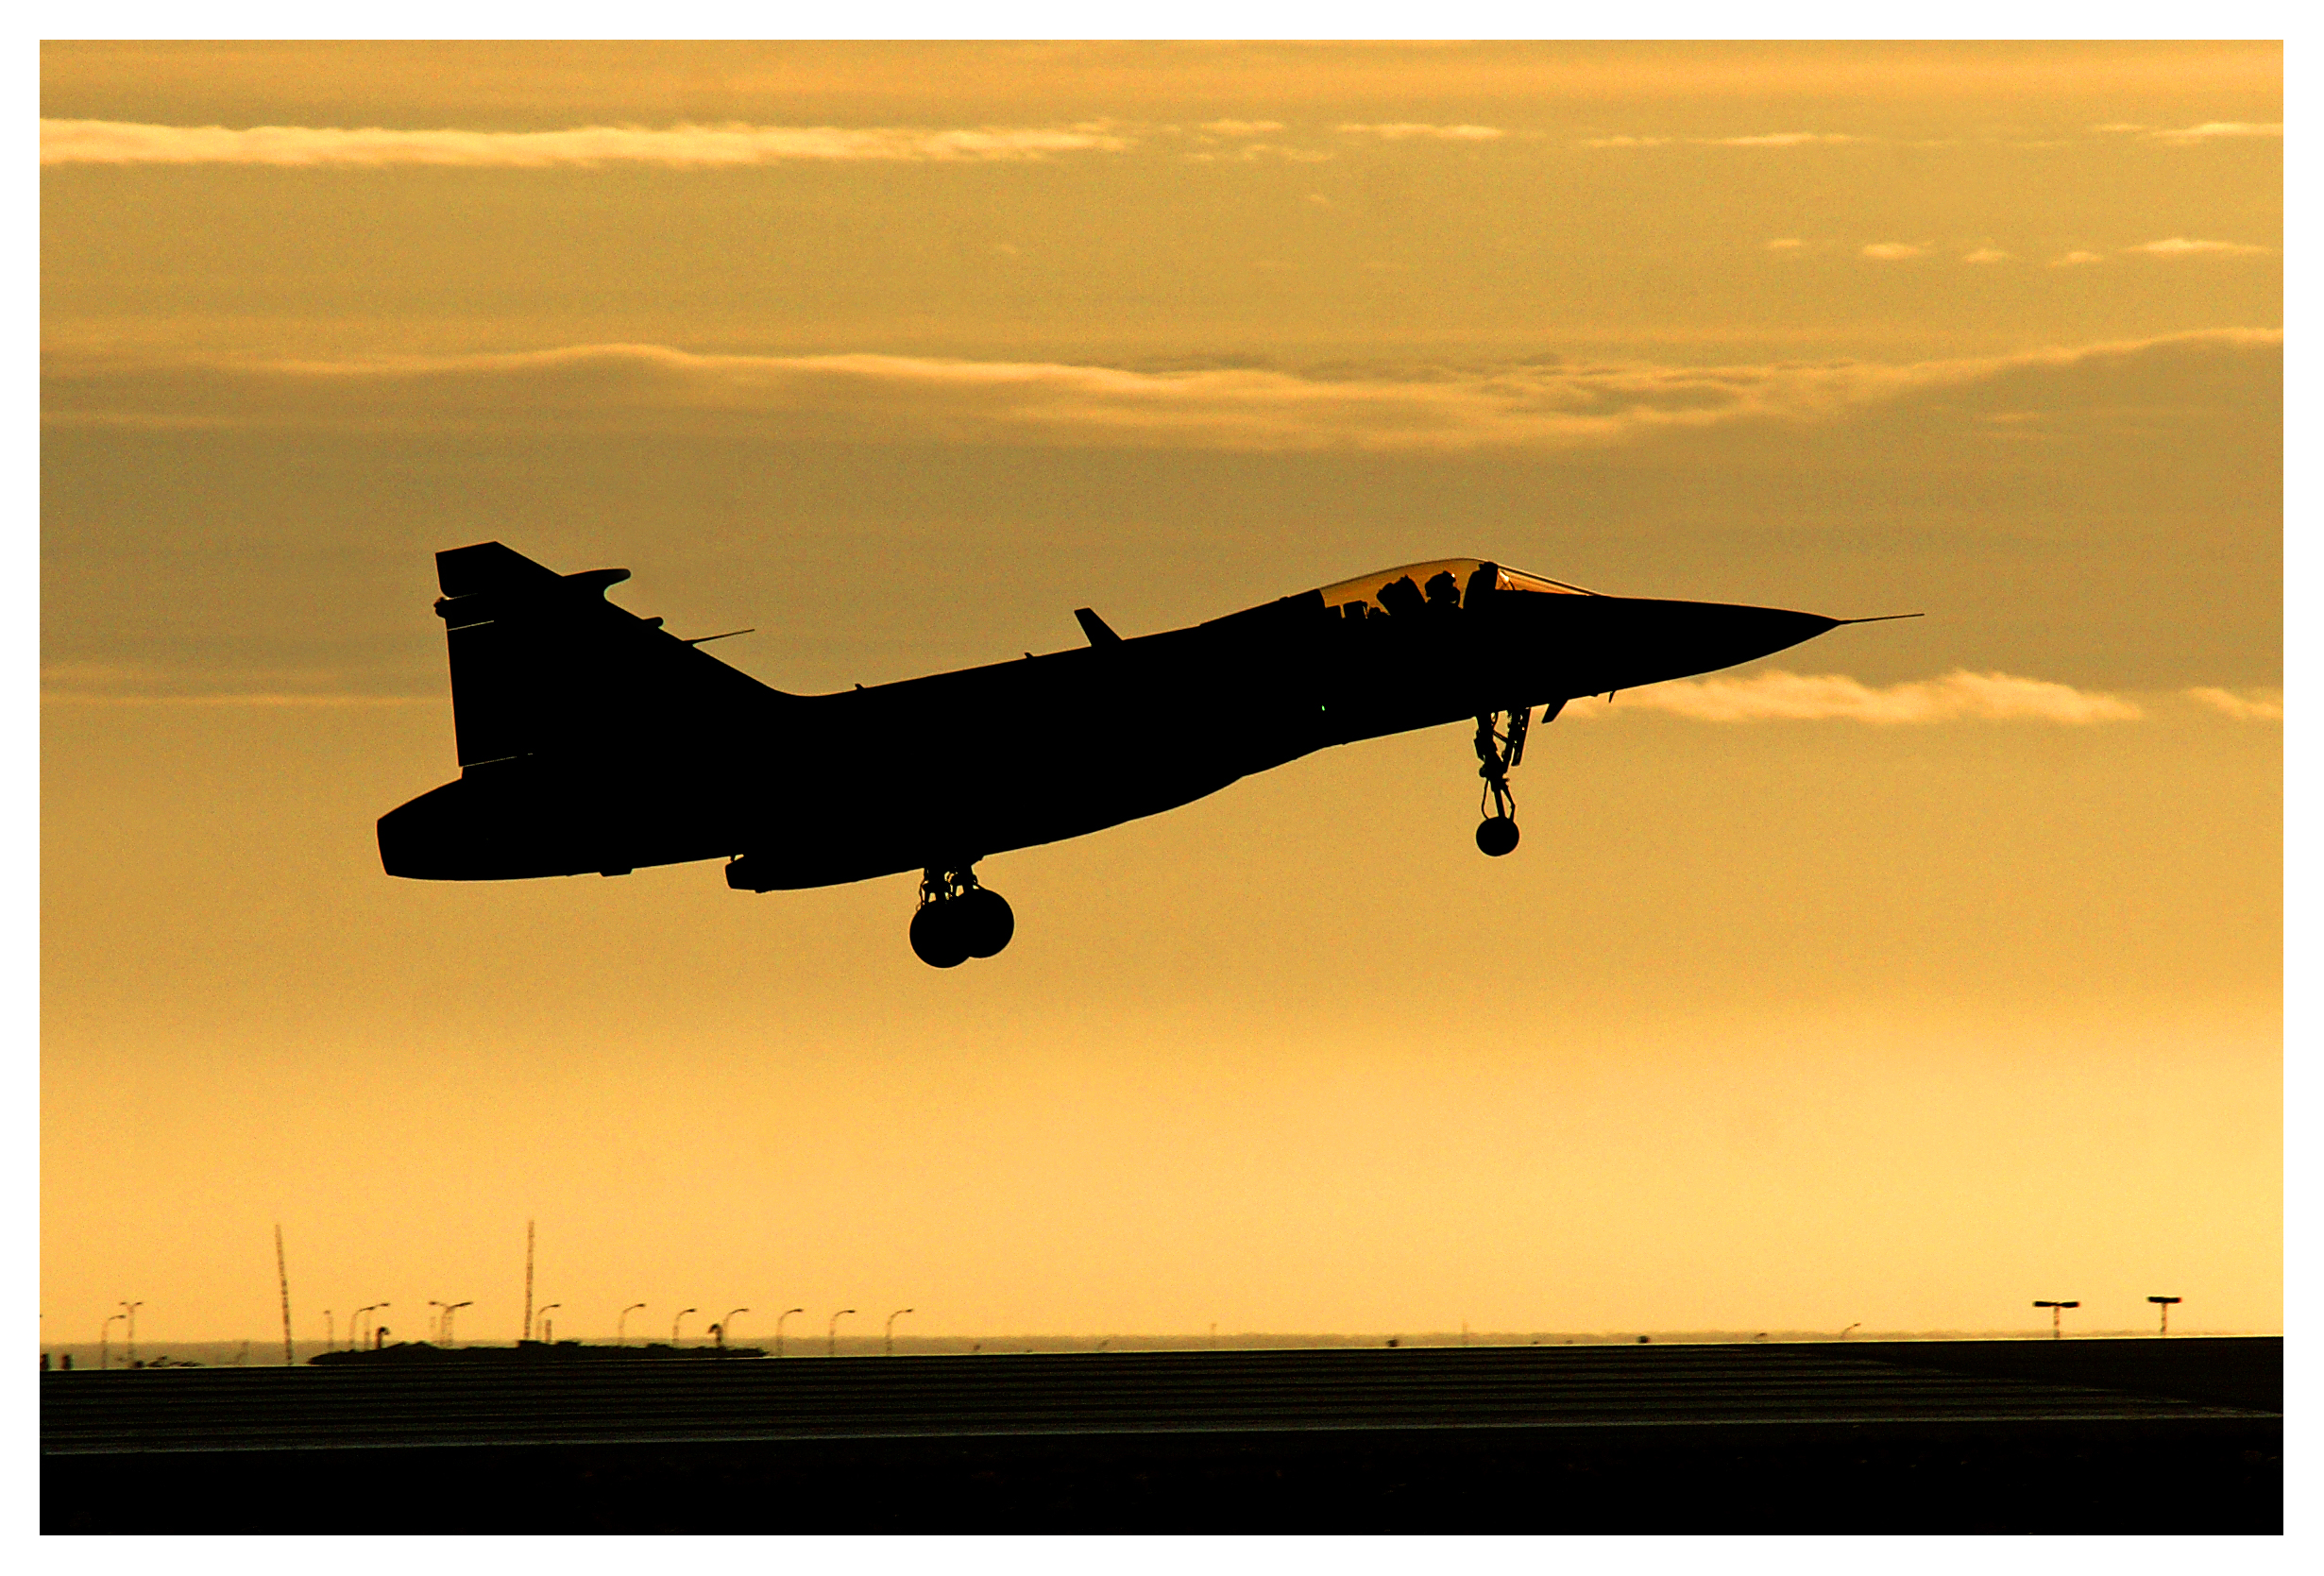JAS39: (375, 540, 1925, 969)
